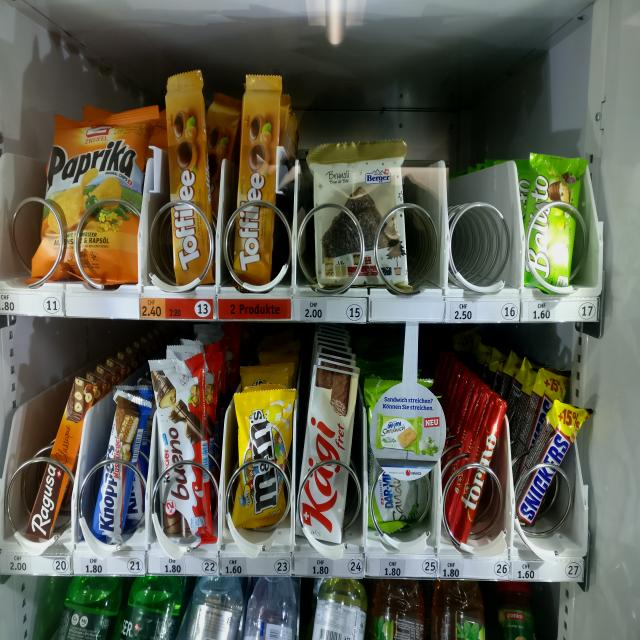balisto_muesli__37g__5000159418546: (518, 152, 585, 291)
berger_bruensli____: (314, 147, 408, 300)
bueno___43__4008400320328: (148, 358, 219, 549)
darwida_sandwich____7610032065170: (364, 375, 432, 525)
kagi___50__7610046000259: (299, 364, 357, 540)
knoppers_riegel____4035800488808: (93, 393, 144, 542)
mnms_gelb__45__40111445: (230, 390, 292, 527)
ragusa___50__76401121: (26, 376, 94, 541)
snickers___50__5000159461122: (517, 405, 580, 531)
toffifee___33__4014400924275: (166, 69, 218, 282), (234, 72, 284, 286)
torino___46__76415272: (451, 394, 507, 546)
zweifel_paprika__90__7610095013002: (35, 110, 155, 282)
